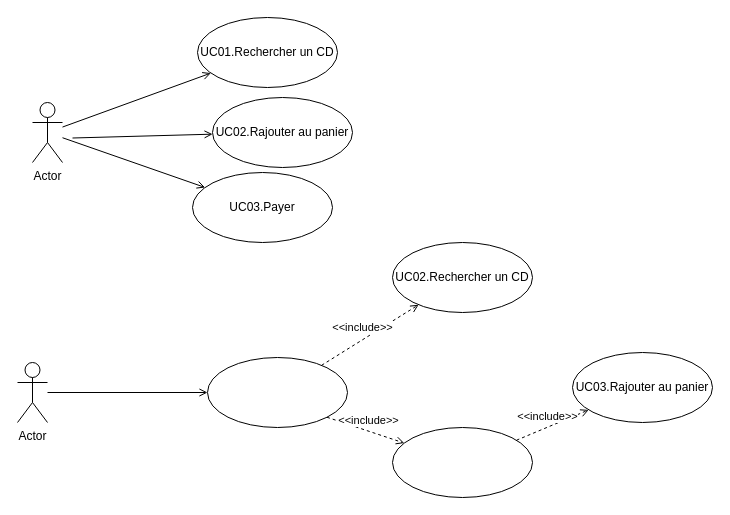
This 730x515 diagram has some shape labels left out. The shapes that lost their labels are listed below. From the top down, each one's box as (x1, y1, x2, y2) in pixels, then its label:
(206, 356, 348, 428): UC01.Acheter un CD
(392, 426, 532, 498): UC04.Payer
